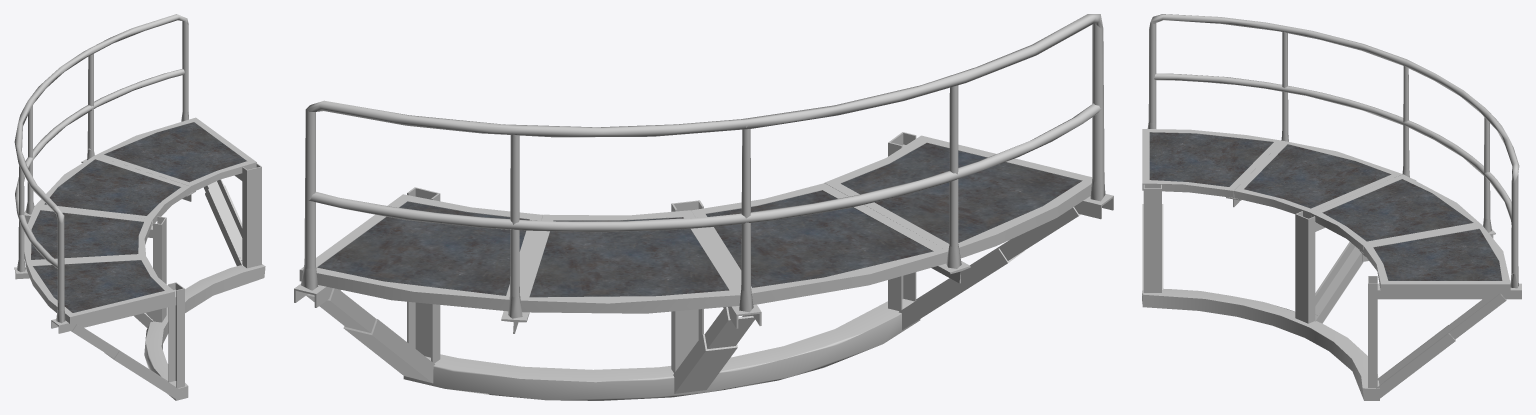
File: SM_RoundPlatform_02.fbx
3 renders of one model, left to right at view 1: azimuth 30°, elevation 25°; view 2: azimuth 150°, elevation 25°; view 3: azimuth 270°, elevation 25°, orthographic. The views are drawn at different scales.
Visible parts, largest first — view 1: SM_RoundPlatform_02_LOD0; view 2: SM_RoundPlatform_02_LOD0; view 3: SM_RoundPlatform_02_LOD0.
Boxes of the visible parts, bbox=[...] form: SM_RoundPlatform_02_LOD0: bbox=[14, 14, 265, 400]; SM_RoundPlatform_02_LOD0: bbox=[294, 14, 1113, 400]; SM_RoundPlatform_02_LOD0: bbox=[1142, 14, 1521, 400].
Size of the model in its own units: 320 by 320 by 214.
